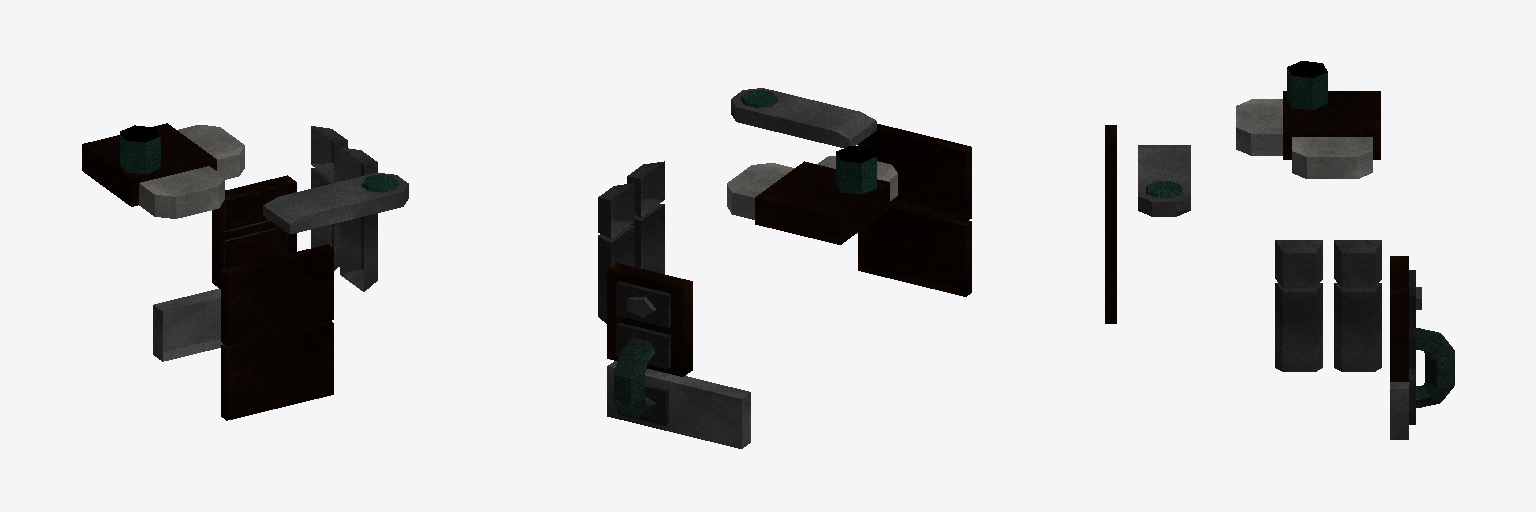
3 renders of one model, left to right at view 1: azimuth 30°, elevation 25°; view 2: azimuth 150°, elevation 25°; view 3: azimuth 270°, elevation 25°, orthographic.
Parts seen in each view (by area): view 1: TransportAccessories_TransportAccesories; view 2: TransportAccessories_TransportAccesories; view 3: TransportAccessories_TransportAccesories.
Boxes of the visible parts, x1,y1,x2,y2 form: TransportAccessories_TransportAccesories: [82, 123, 408, 420]; TransportAccessories_TransportAccesories: [598, 88, 971, 448]; TransportAccessories_TransportAccesories: [1105, 61, 1454, 439].
Bounding box in the file's own units: 5.09 × 5.4 × 6.27.
1 materials, 1 textured.